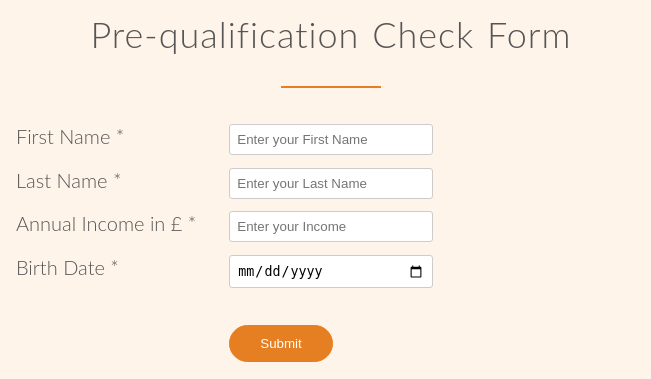
Test: form error message › first name empty error message
Clear the field with id "firstName" at (331, 140), box top-left (229, 124), bottom-right (433, 155)
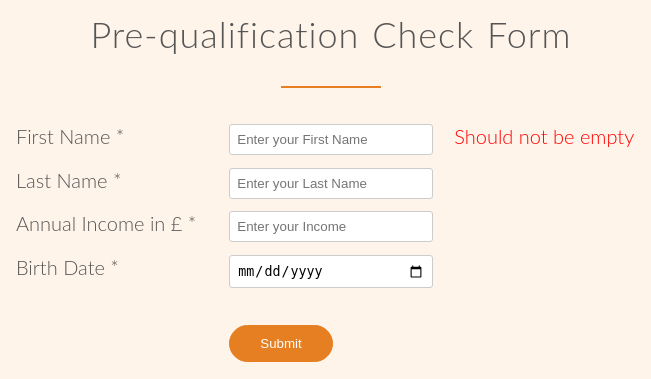
Now the text with id "formErrorFirstName" reads "Should not be empty", box top-left (454, 124), bottom-right (634, 148)
